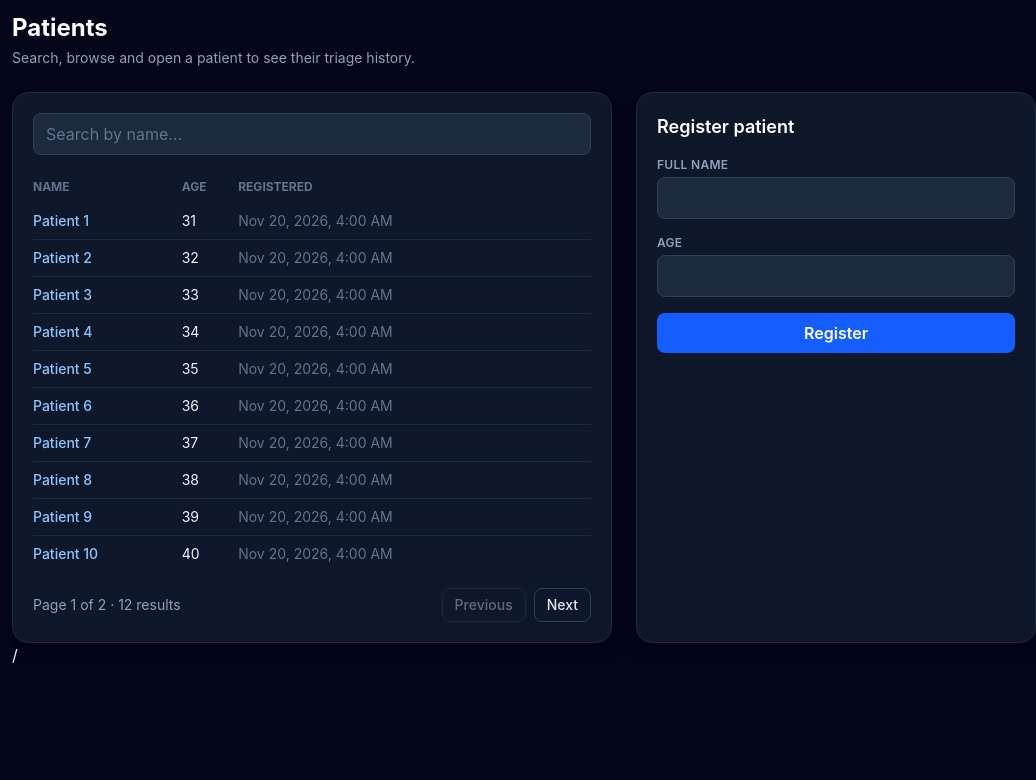
PatientsPage › paginates with offset/limit
Expected: the text "Page 1 of 2 · 12 results" is shown, [33,595,181,615]
Click the button "Next": (562, 605) [534,588,591,622]
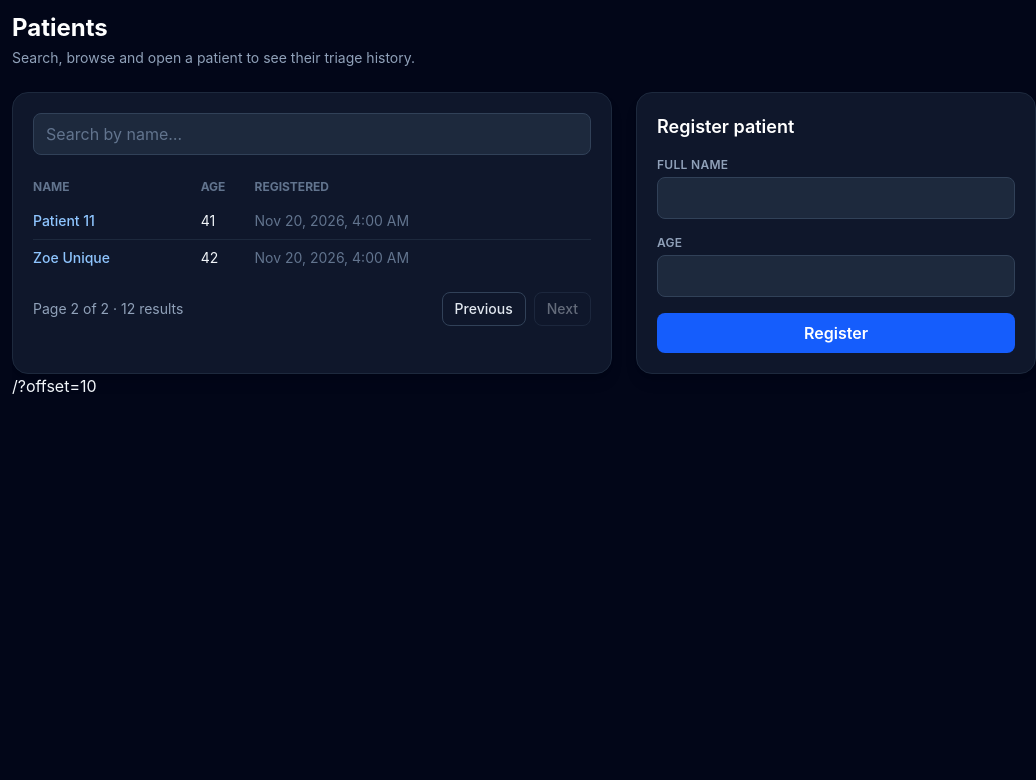
Expected: the text "Page 2 of 2 · 12 results" is shown, [33,299,183,319]
